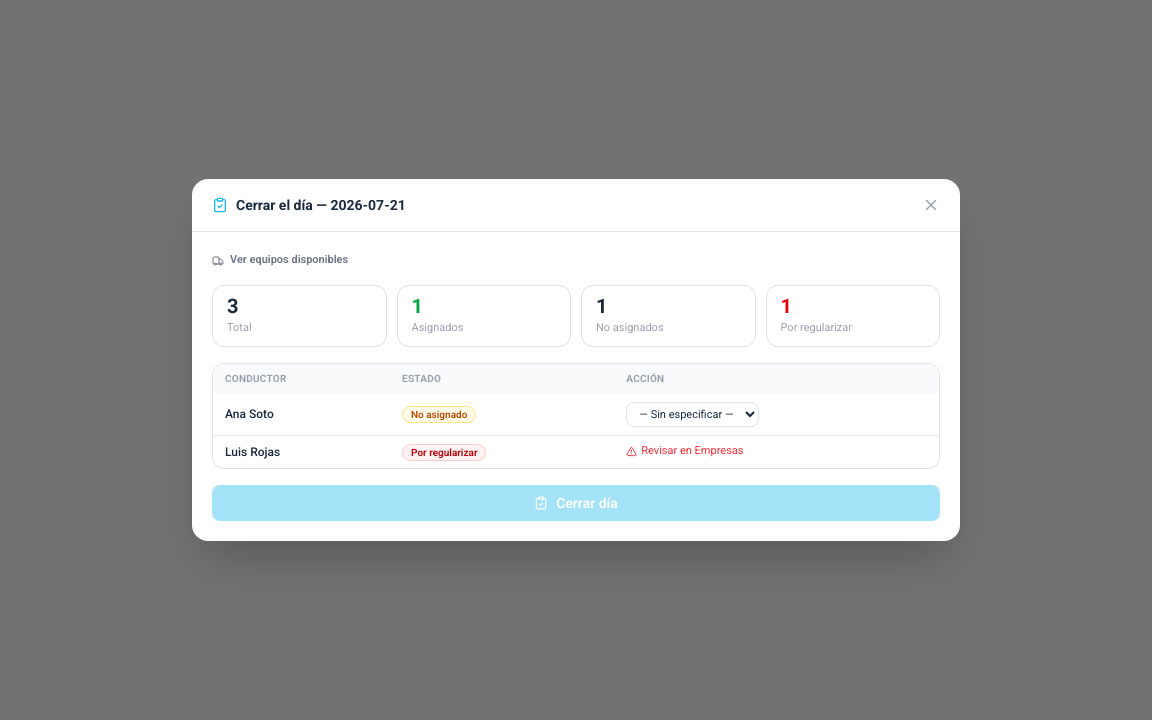
CloseDayDialog › clickear la tile activa de nuevo vuelve a la vista de pendientes
Click the button "1 Asignados": click(484, 316) [396, 285, 571, 347]
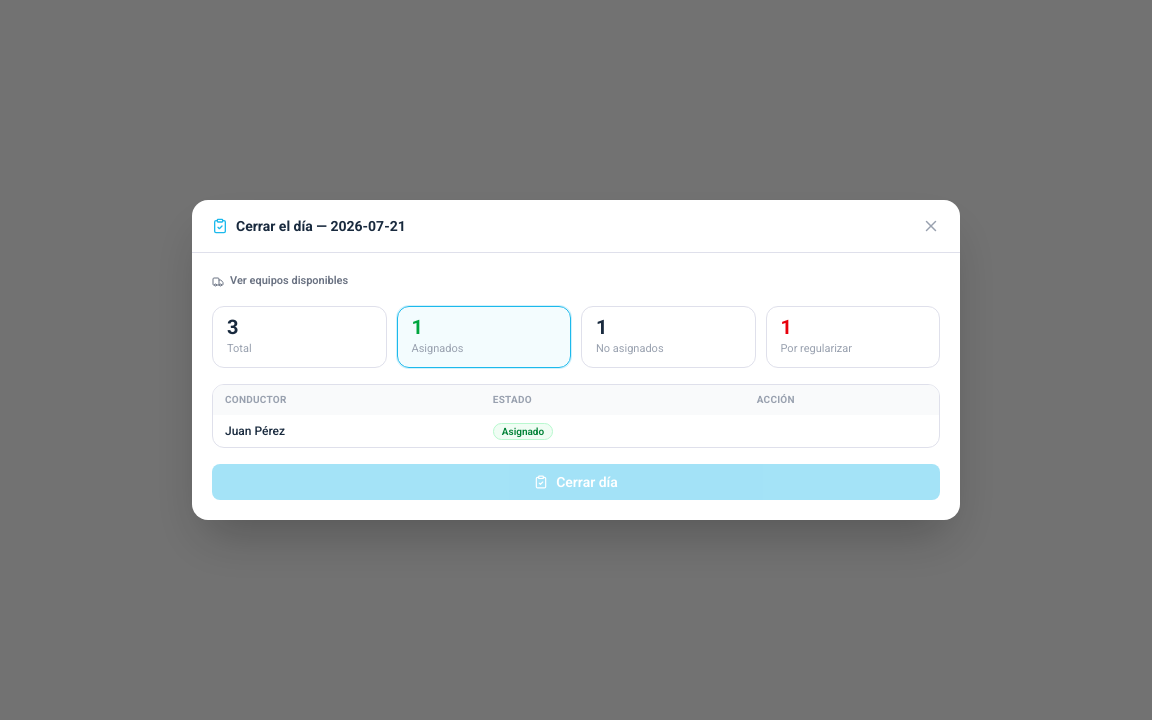
Check: the text "Juan Pérez" is shown, box [213, 415, 481, 447]
Click the button "1 Asignados": click(484, 337) [396, 306, 571, 368]
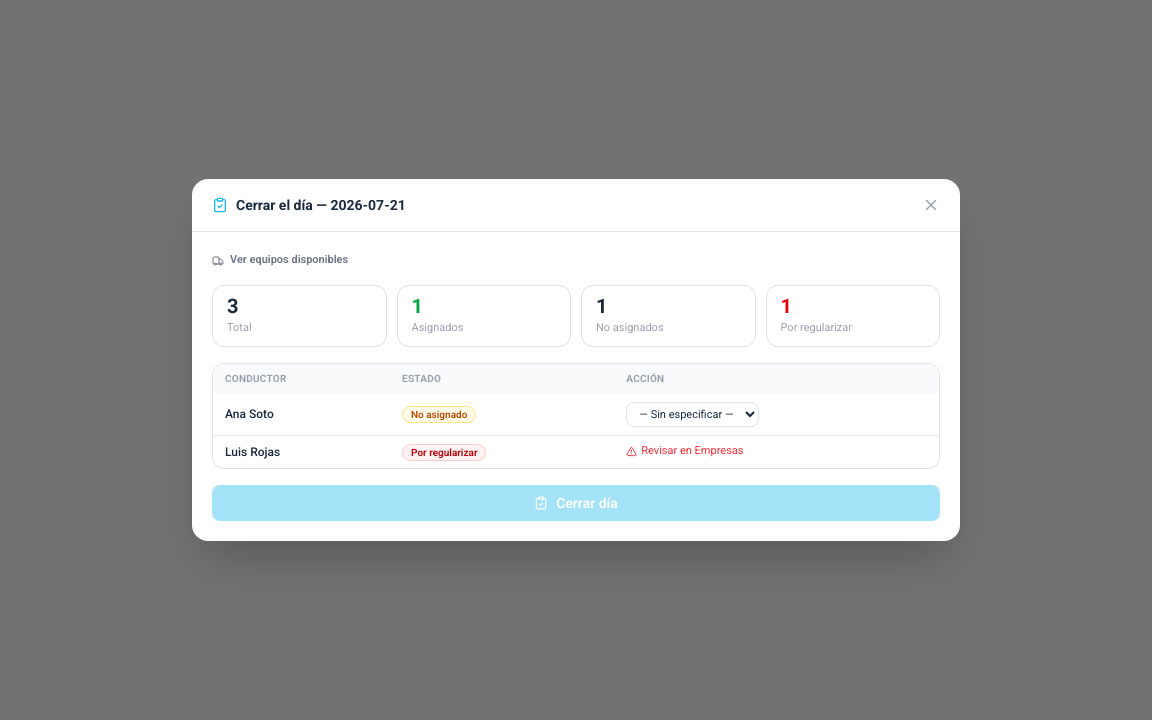
Check: the text "Juan Pérez" is gone
